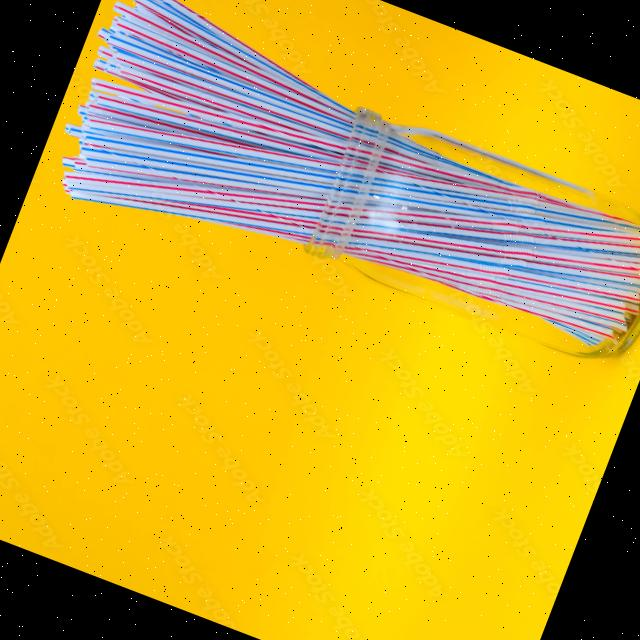plastic: (74, 59, 358, 194)
